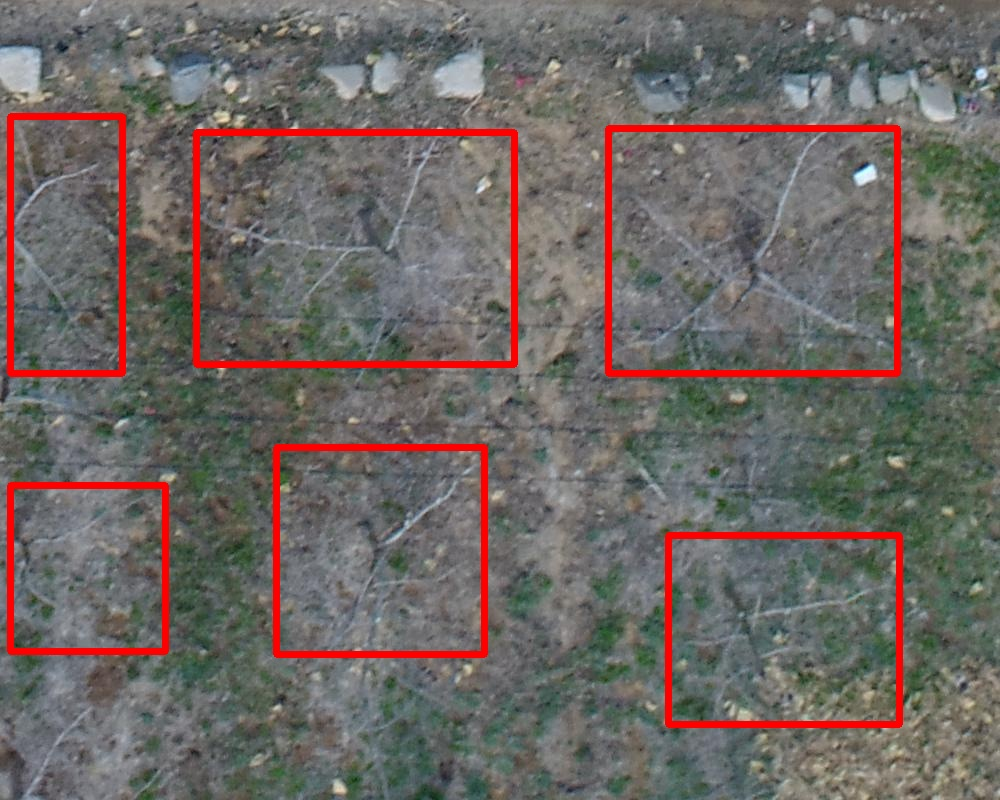apple: (196, 132, 514, 364), (608, 128, 897, 373), (668, 535, 899, 724), (276, 447, 484, 654), (10, 116, 122, 373), (10, 485, 165, 651)
